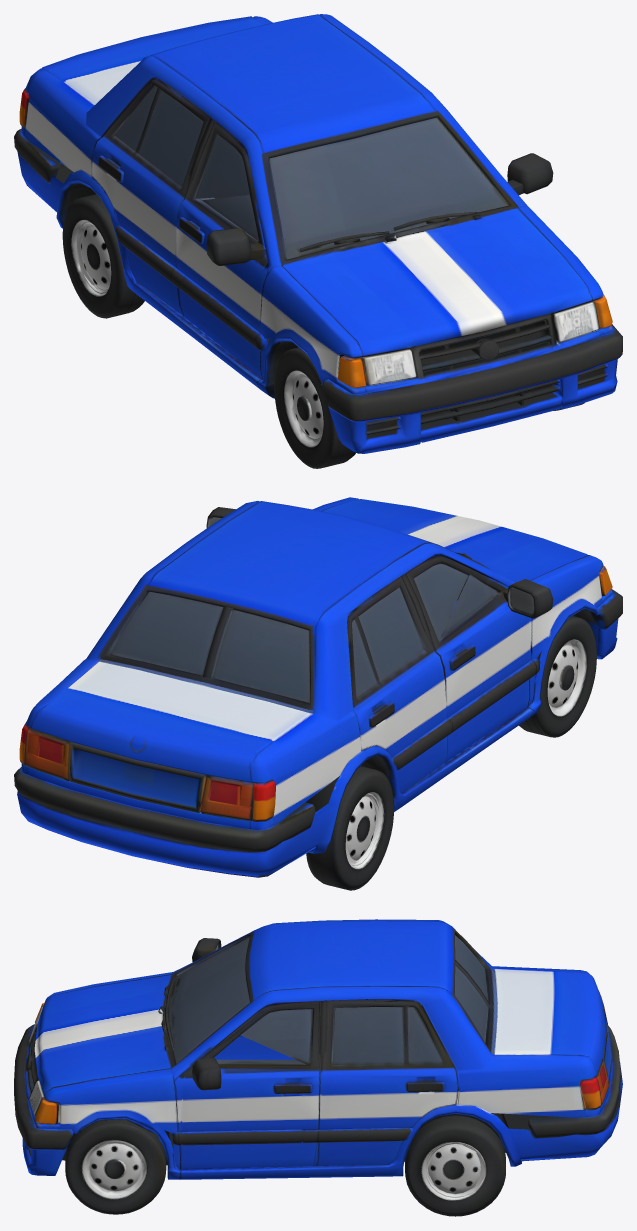
The model's file is blue sedan 3d model.fbx.
The picture shows the model from 3 angles, top to bottom: view 1: azimuth 30°, elevation 25°; view 2: azimuth 150°, elevation 25°; view 3: azimuth 270°, elevation 25°; orthographic projection. The views are drawn at different scales.
Parts seen in each view (by area): view 1: tripo_node_c83aa41d; view 2: tripo_node_c83aa41d; view 3: tripo_node_c83aa41d.
Boxes of the visible parts, x1,y1,x2,y2 form: tripo_node_c83aa41d: (14, 14, 622, 468); tripo_node_c83aa41d: (14, 497, 622, 890); tripo_node_c83aa41d: (14, 919, 622, 1216).
Bounding box in the file's own units: 0.5259 × 0.3823 × 0.9995.
